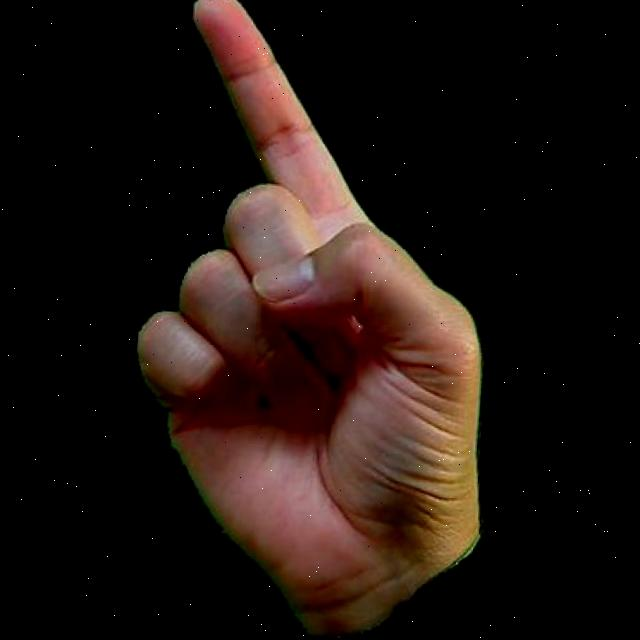z: (103, 0, 532, 640)
